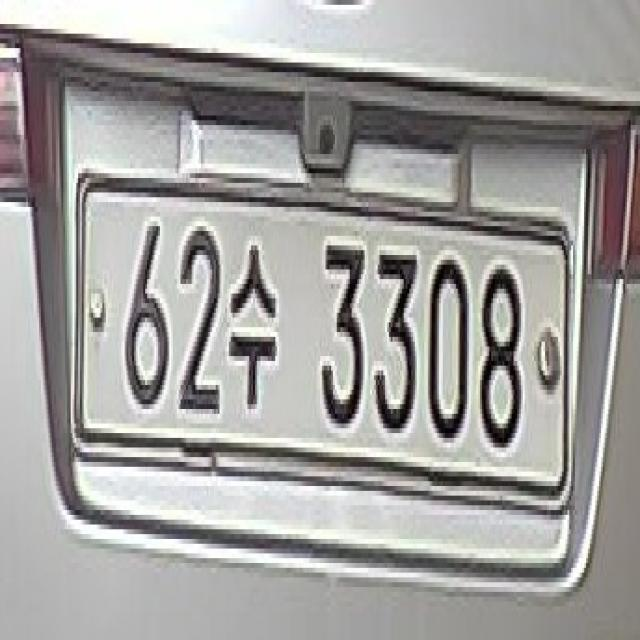0: (428, 238, 472, 454)
2: (174, 214, 226, 423)
3: (320, 220, 370, 447), (376, 244, 421, 446)
6: (122, 215, 171, 418)
8: (476, 248, 527, 458)
license_plate: (66, 147, 582, 536)
su: (230, 230, 286, 424)
